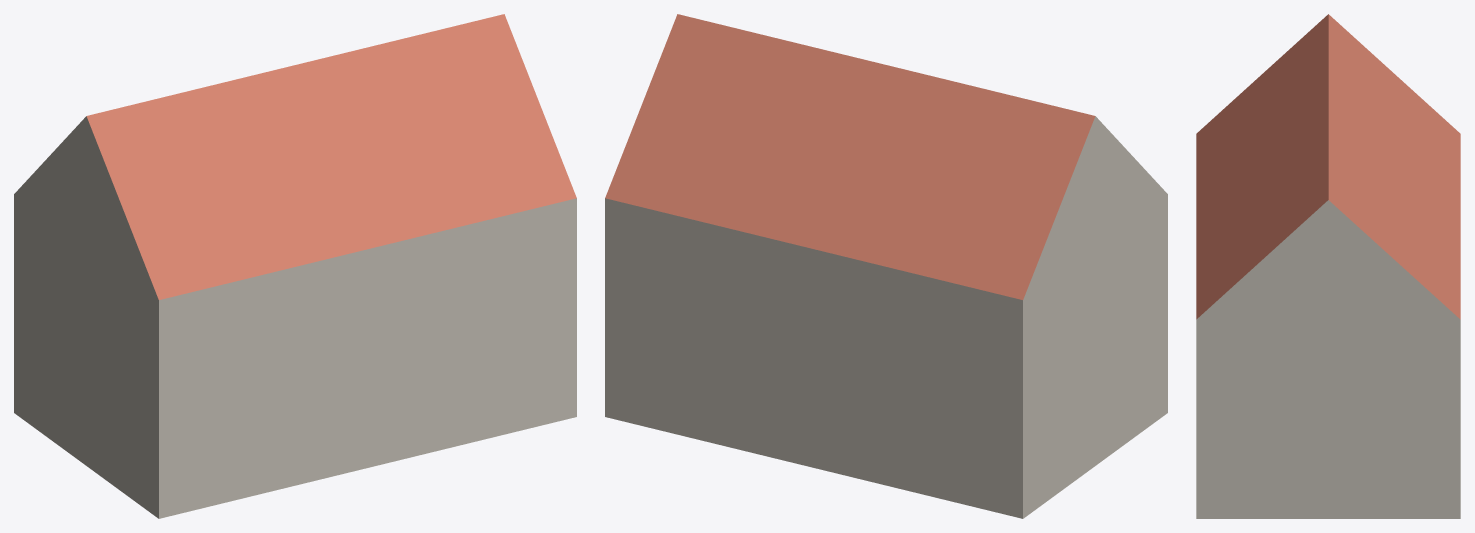
The picture shows the model from 3 angles, left to right: view 1: azimuth 30°, elevation 25°; view 2: azimuth 150°, elevation 25°; view 3: azimuth 270°, elevation 25°; orthographic projection. The views are drawn at different scales.
Parts seen in each view (by area): view 1: test_house; view 2: test_house; view 3: test_house.
Boxes of the visible parts, bbox=[...] form: test_house: bbox=[14, 14, 576, 518]; test_house: bbox=[605, 14, 1167, 518]; test_house: bbox=[1196, 14, 1460, 518].
Size of the model in its own units: 10 by 8 by 6.
